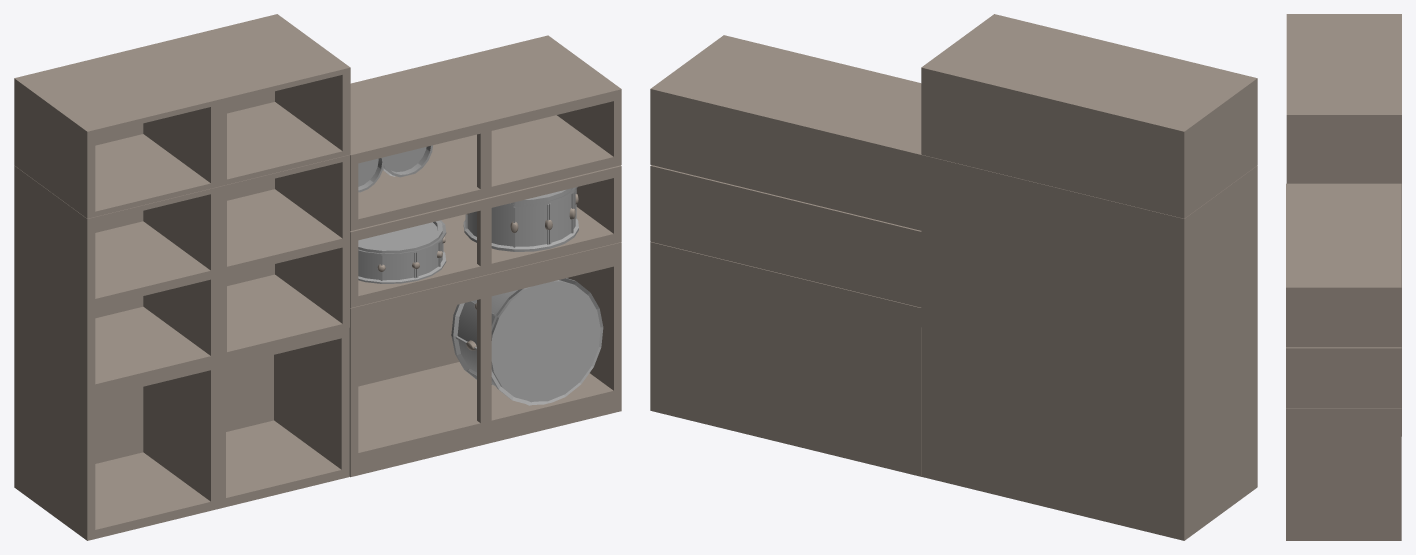
File: LV2_INSTRUMENTCUPBOARDFINAL.fbx
3 views of the same model, side by side, from view 1: azimuth 30°, elevation 25°; view 2: azimuth 150°, elevation 25°; view 3: azimuth 270°, elevation 25° (orthographic). The views are drawn at different scales.
Parts seen in each view (by area): view 1: polySurface1, polySurface8, polySurface6, polySurface4, polySurface2, polySurface3, polySurface5, polySurface57, polySurface7, polySurface46, polySurface35, polySurface24; view 2: polySurface1, polySurface6, polySurface8, polySurface4, polySurface2, polySurface3, polySurface7, polySurface5; view 3: polySurface1, polySurface8, polySurface6, polySurface7.
Boxes of the visible parts, x1,y1,x2,y2 form: polySurface1: (14, 14, 350, 218); polySurface8: (350, 35, 621, 231); polySurface6: (349, 242, 621, 477); polySurface4: (14, 338, 218, 540); polySurface2: (14, 154, 350, 305); polySurface3: (14, 241, 349, 391); polySurface5: (218, 327, 349, 508); polySurface57: (451, 278, 603, 405); polySurface7: (350, 165, 621, 307); polySurface46: (463, 187, 578, 251); polySurface35: (358, 220, 446, 283); polySurface24: (383, 145, 432, 177); polySurface1: (921, 14, 1257, 218); polySurface6: (650, 242, 921, 476); polySurface8: (650, 35, 921, 230); polySurface4: (1053, 338, 1257, 540); polySurface2: (921, 154, 1257, 305); polySurface3: (921, 241, 1257, 391); polySurface7: (650, 165, 921, 307); polySurface5: (922, 327, 1053, 508); polySurface1: (1286, 14, 1401, 183); polySurface8: (1286, 183, 1401, 347); polySurface6: (1286, 408, 1401, 540); polySurface7: (1286, 347, 1401, 407).
Bounding box in the file's own units: 6.71 × 4.92 × 1.6.
